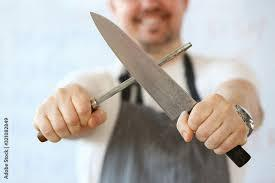Knife: (89, 11, 253, 167)
